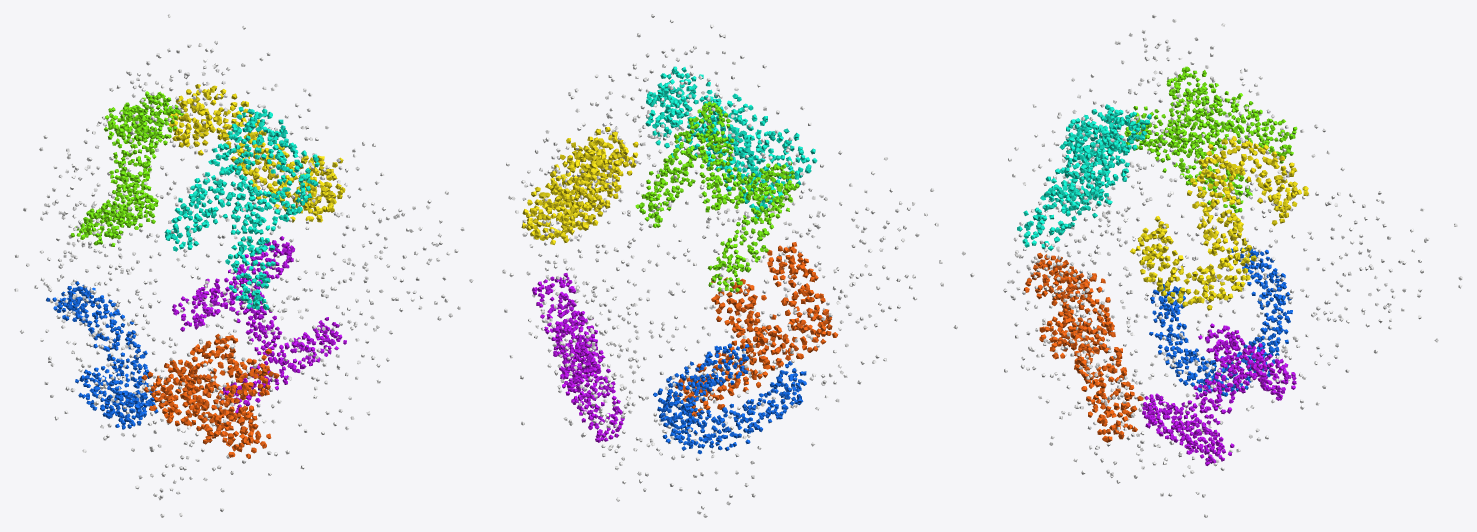
3 views of the same model, side by side, from view 1: azimuth 30°, elevation 25°; view 2: azimuth 150°, elevation 25°; view 3: azimuth 270°, elevation 25° (orthographic).
Parts seen in each view (by area): view 1: 6men; view 2: 6men; view 3: 6men.
Part boxes in pixels (box(x1,y1,x2,y2)): 6men: box(14, 14, 473, 517); 6men: box(502, 14, 974, 517); 6men: box(1003, 14, 1462, 517).
Bounding box in the file's own units: 14.14 × 14.78 × 12.76.
Materials: 1 (1 with a texture image).
